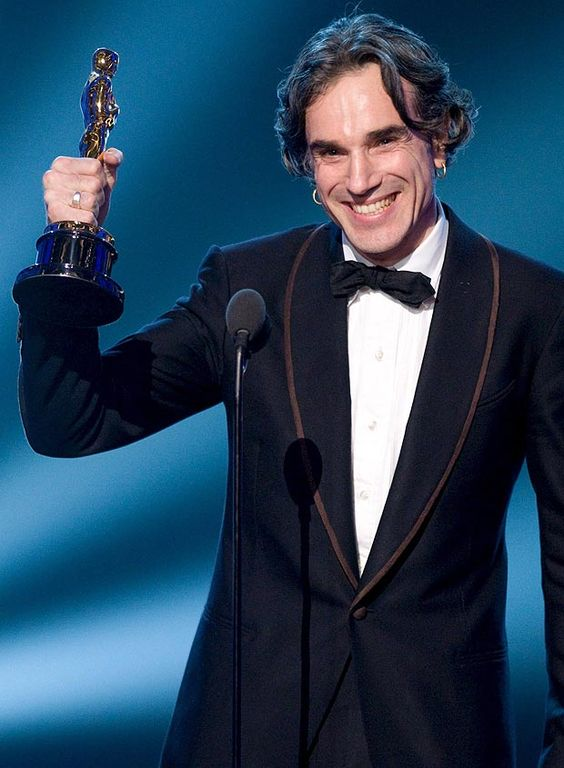hand: (47, 157, 116, 224)
